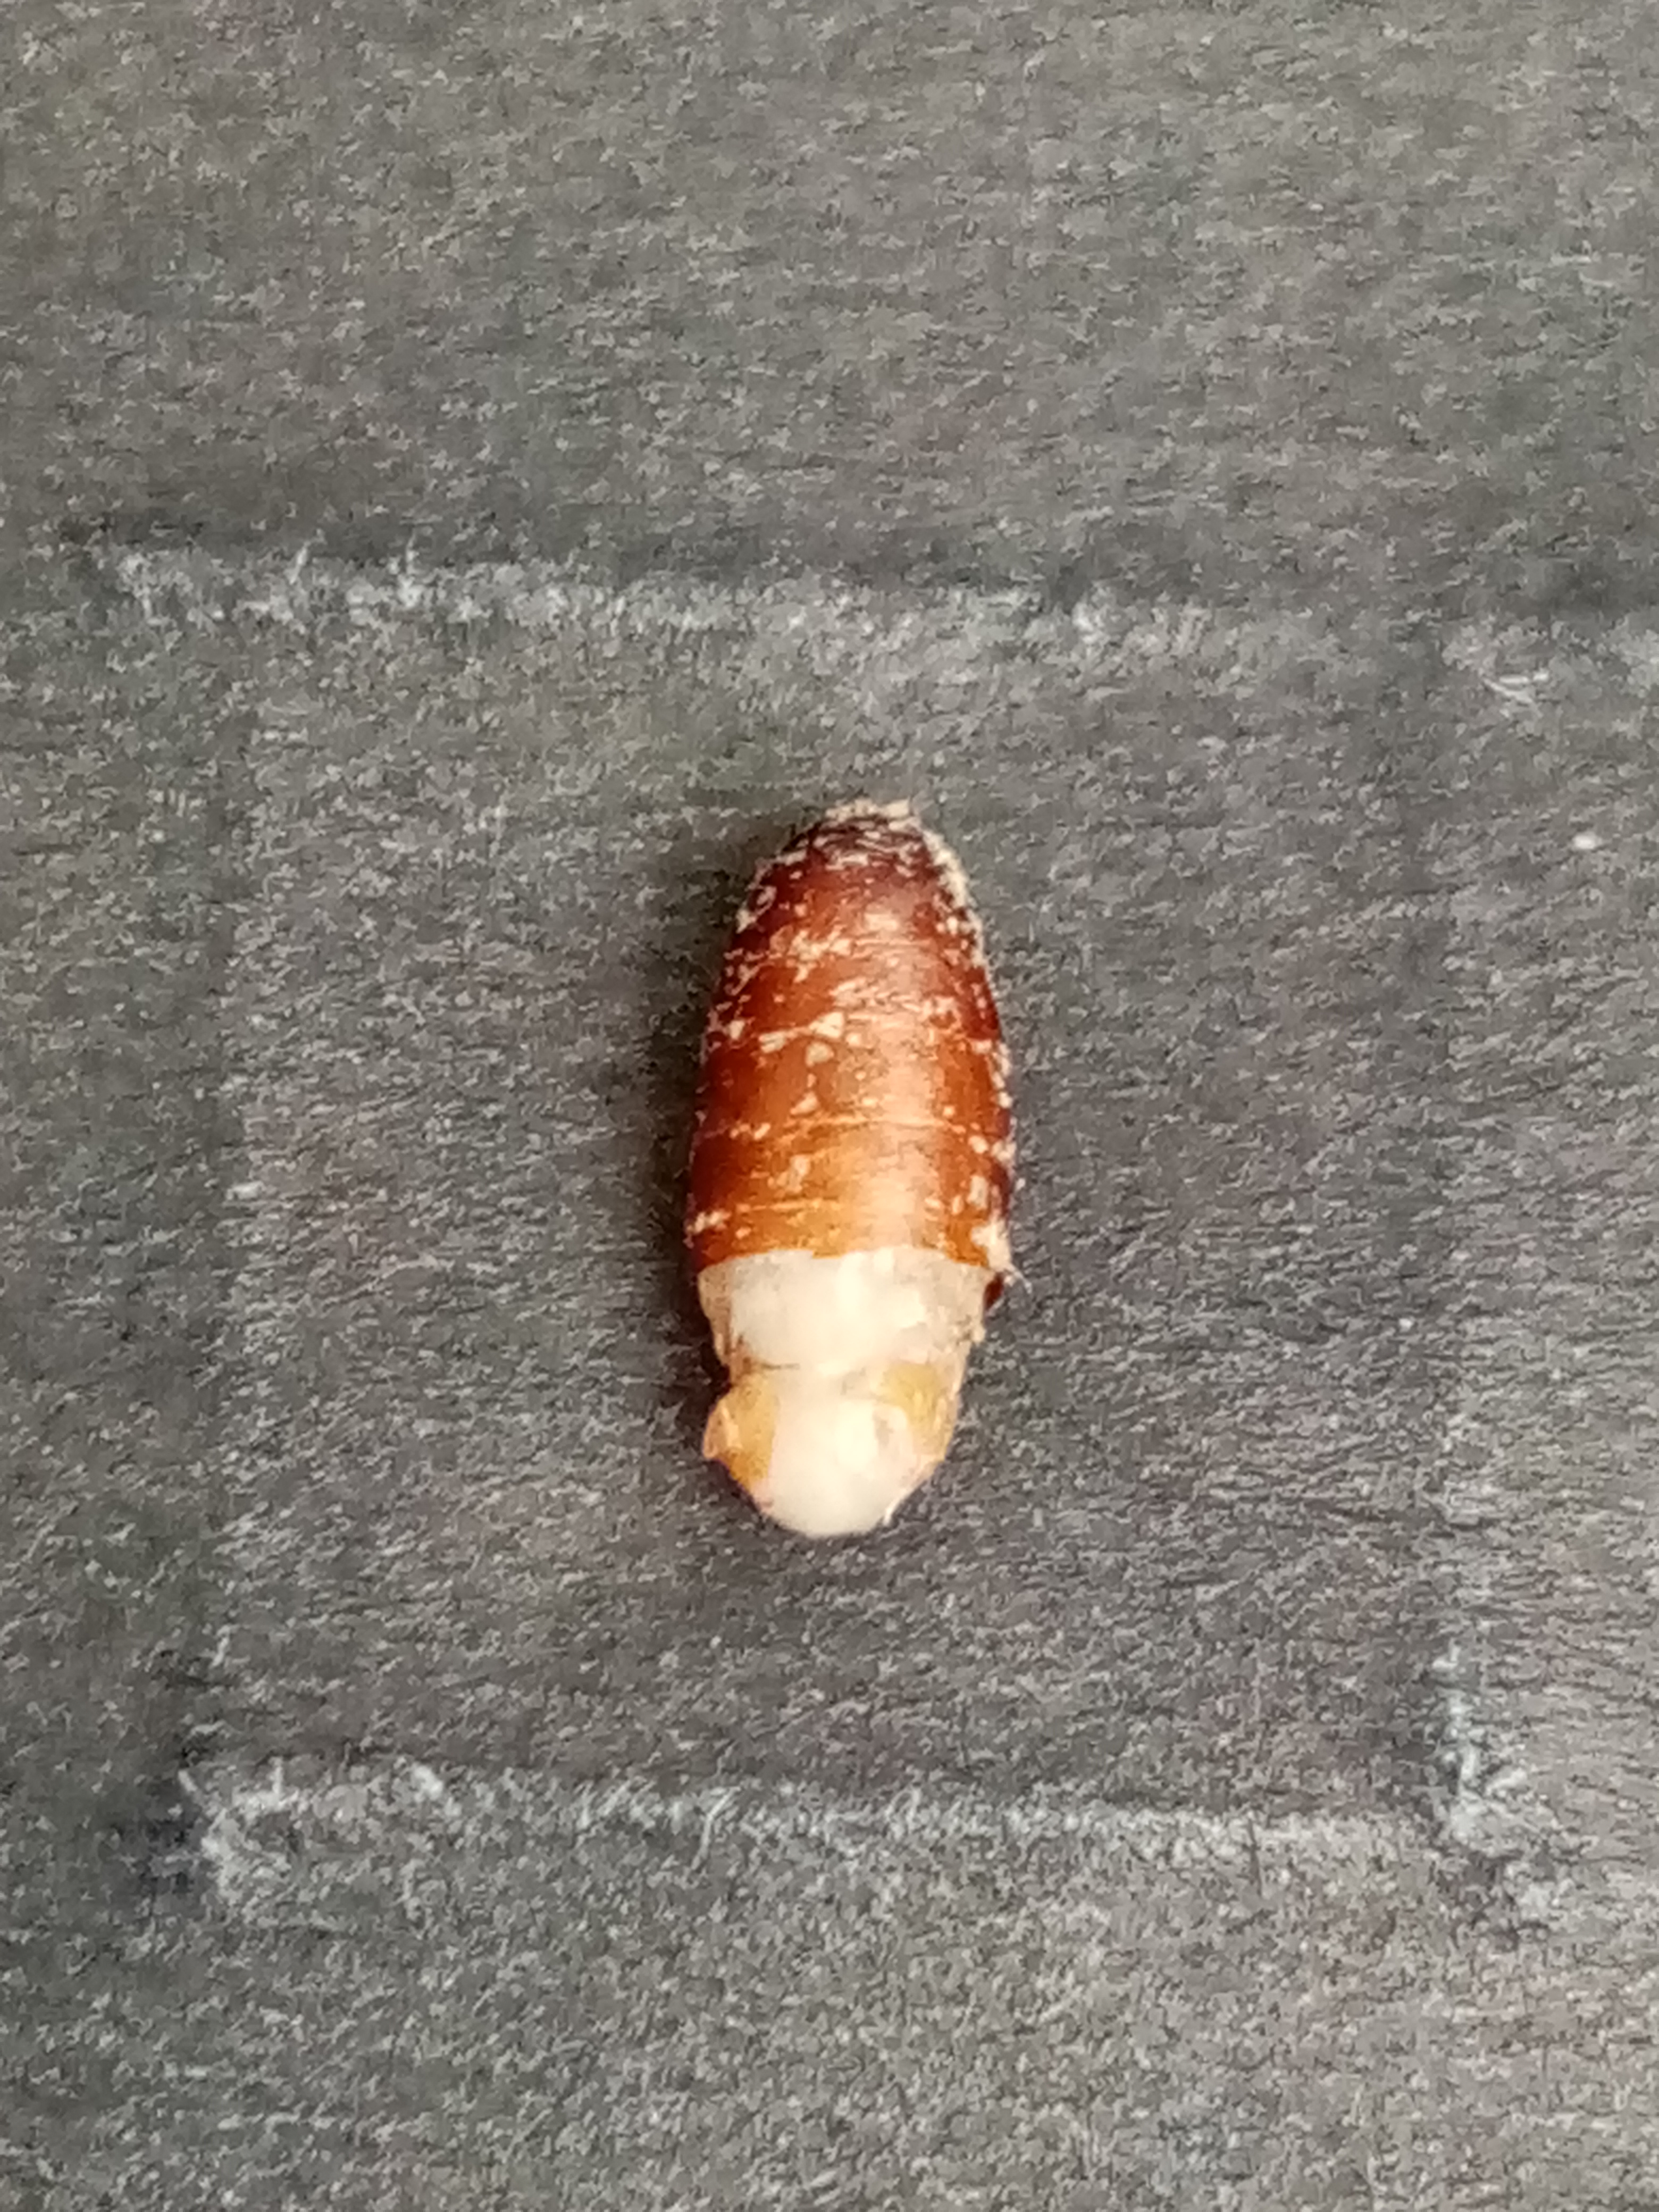pupa: (695, 1299, 983, 1545)
